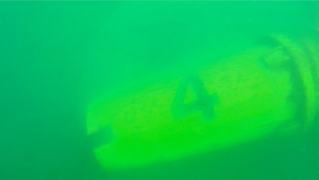4: (174, 73, 216, 121)
pipe: (85, 31, 319, 172)
